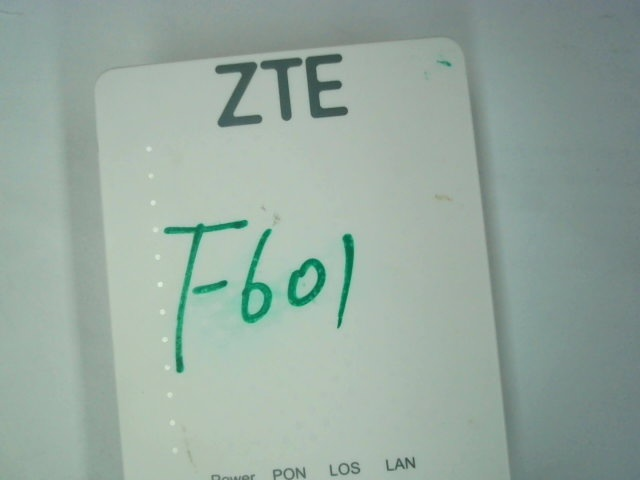AN_ZTE: (197, 44, 355, 135)
